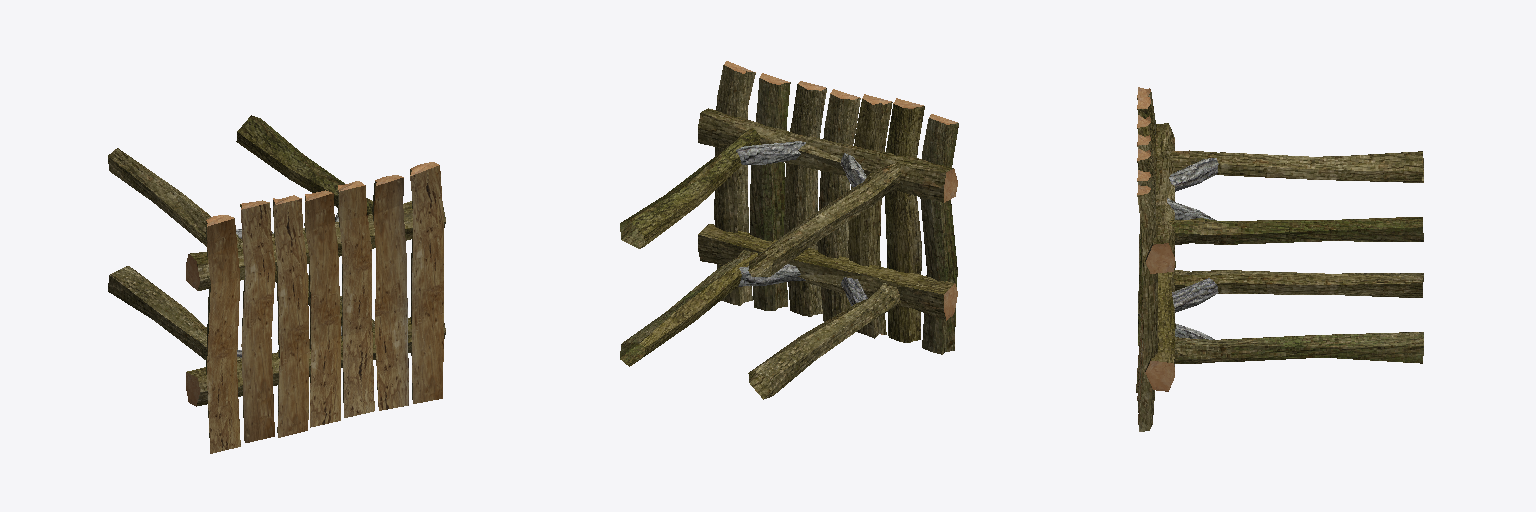
3 renders of one model, left to right at view 1: azimuth 30°, elevation 25°; view 2: azimuth 150°, elevation 25°; view 3: azimuth 270°, elevation 25°, orthographic.
Parts seen in each view (by area): view 1: Logs; view 2: Logs; view 3: Logs.
Boxes of the visible parts, x1=… form: Logs: x1=108, y1=115, x2=445, y2=453; Logs: x1=620, y1=61, x2=958, y2=399; Logs: x1=1136, y1=87, x2=1423, y2=431.
Size of the model in its own units: 2 by 1.86 by 2.03.
Materials: 1 (1 with a texture image).